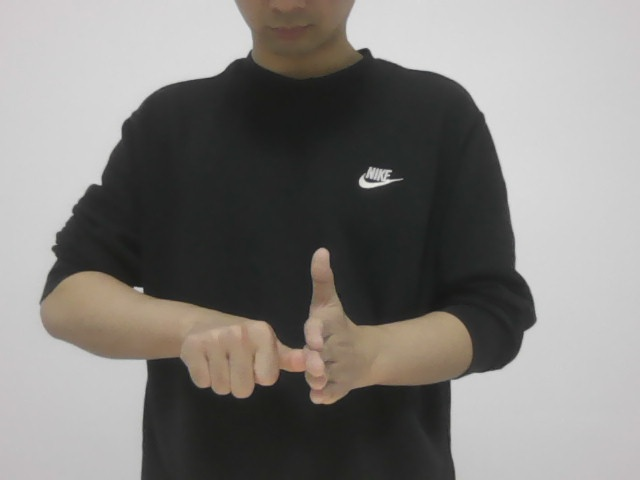time: (158, 237, 379, 416)
